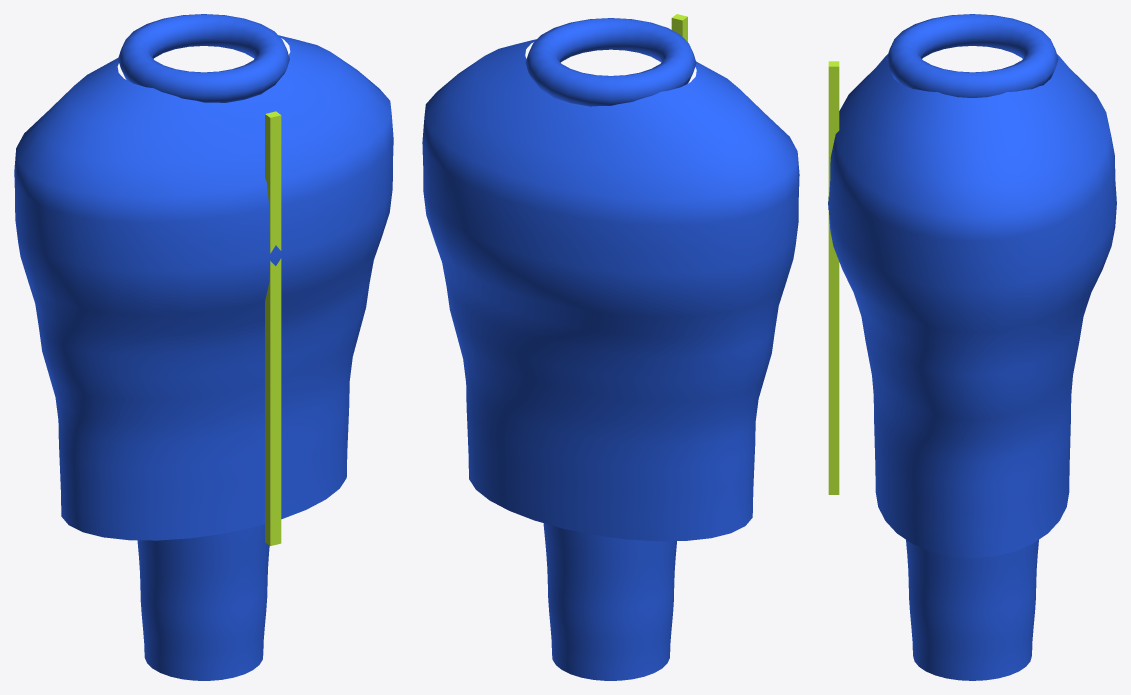
The model's file is top_jacket_male.glb.
The picture shows the model from 3 angles, left to right: view 1: azimuth 30°, elevation 25°; view 2: azimuth 150°, elevation 25°; view 3: azimuth 270°, elevation 25°; orthographic projection.
Visible parts, largest first — view 1: shirt, sleeve, collar, zip; view 2: shirt, sleeve, collar; view 3: shirt, sleeve, collar, zip.
Part boxes in pixels (bbox=[...]): shirt: bbox=[14, 35, 393, 540]; sleeve: bbox=[137, 524, 269, 680]; collar: bbox=[118, 14, 289, 102]; zip: bbox=[265, 111, 281, 545]; shirt: bbox=[422, 39, 799, 541]; sleeve: bbox=[543, 523, 676, 680]; collar: bbox=[525, 18, 696, 106]; shirt: bbox=[828, 54, 1116, 558]; sleeve: bbox=[906, 540, 1038, 680]; collar: bbox=[886, 14, 1058, 97]; zip: bbox=[828, 61, 839, 494].
Bounding box in the file's own units: 0.3832 × 0.636 × 0.2721.
